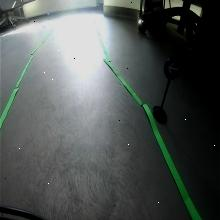left: (164, 55, 182, 80)
